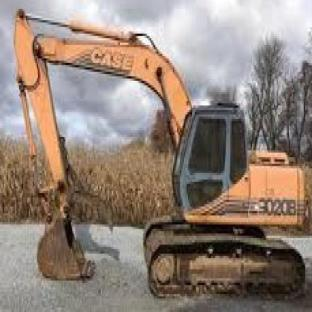ExcavationMachinery: (10, 8, 306, 307)
